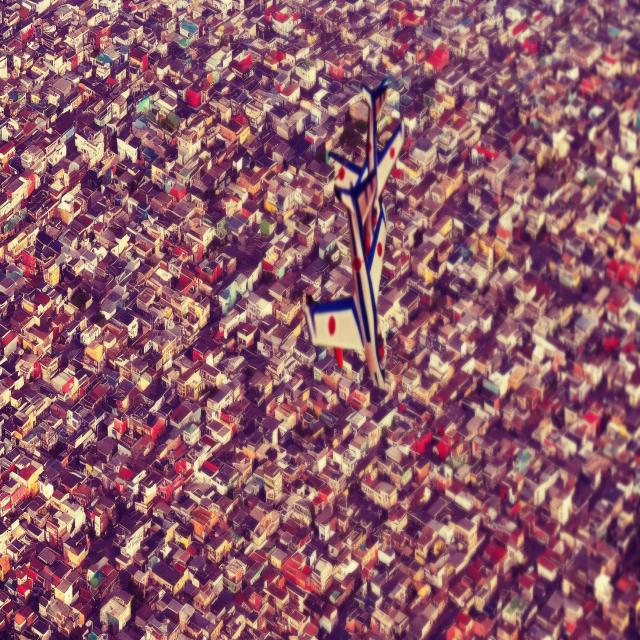airplane: (302, 77, 405, 391)
